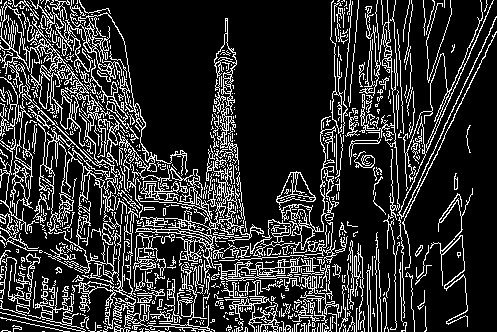eiffel tower: (186, 17, 258, 237)
